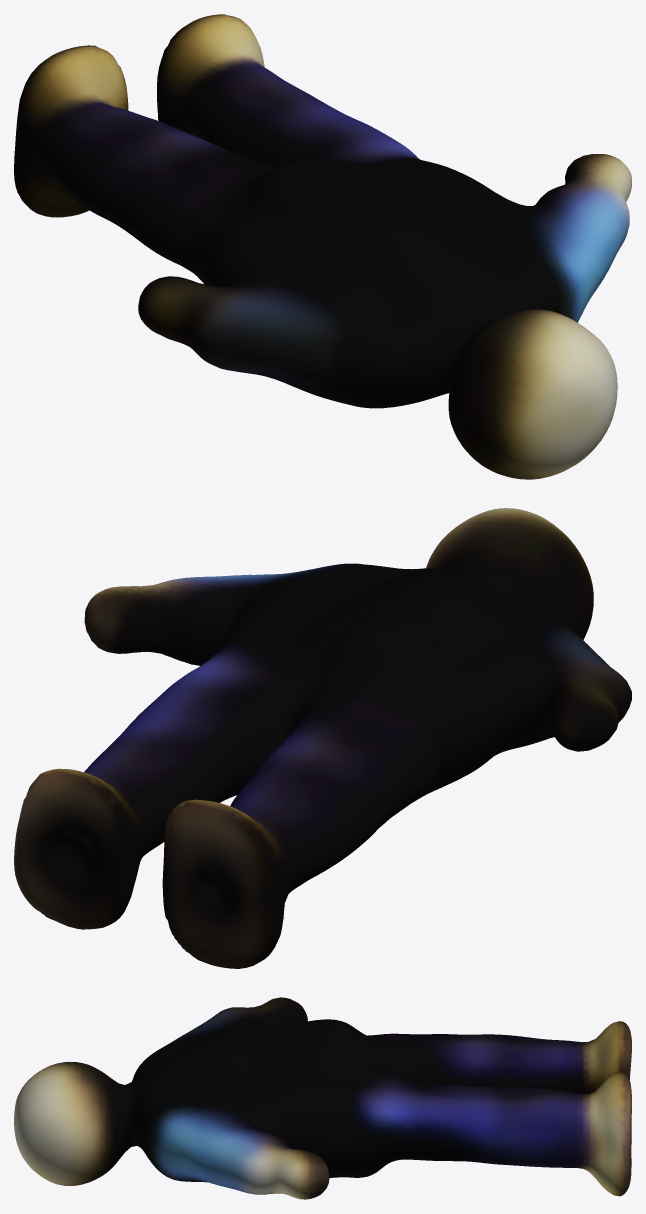
Rendered from grandfather.glb.
3 renders of one model, top to bottom at view 1: azimuth 30°, elevation 25°; view 2: azimuth 150°, elevation 25°; view 3: azimuth 270°, elevation 25°, orthographic. The views are drawn at different scales.
Size of the model in its own units: 0.6872 by 0.2481 by 0.9998.
